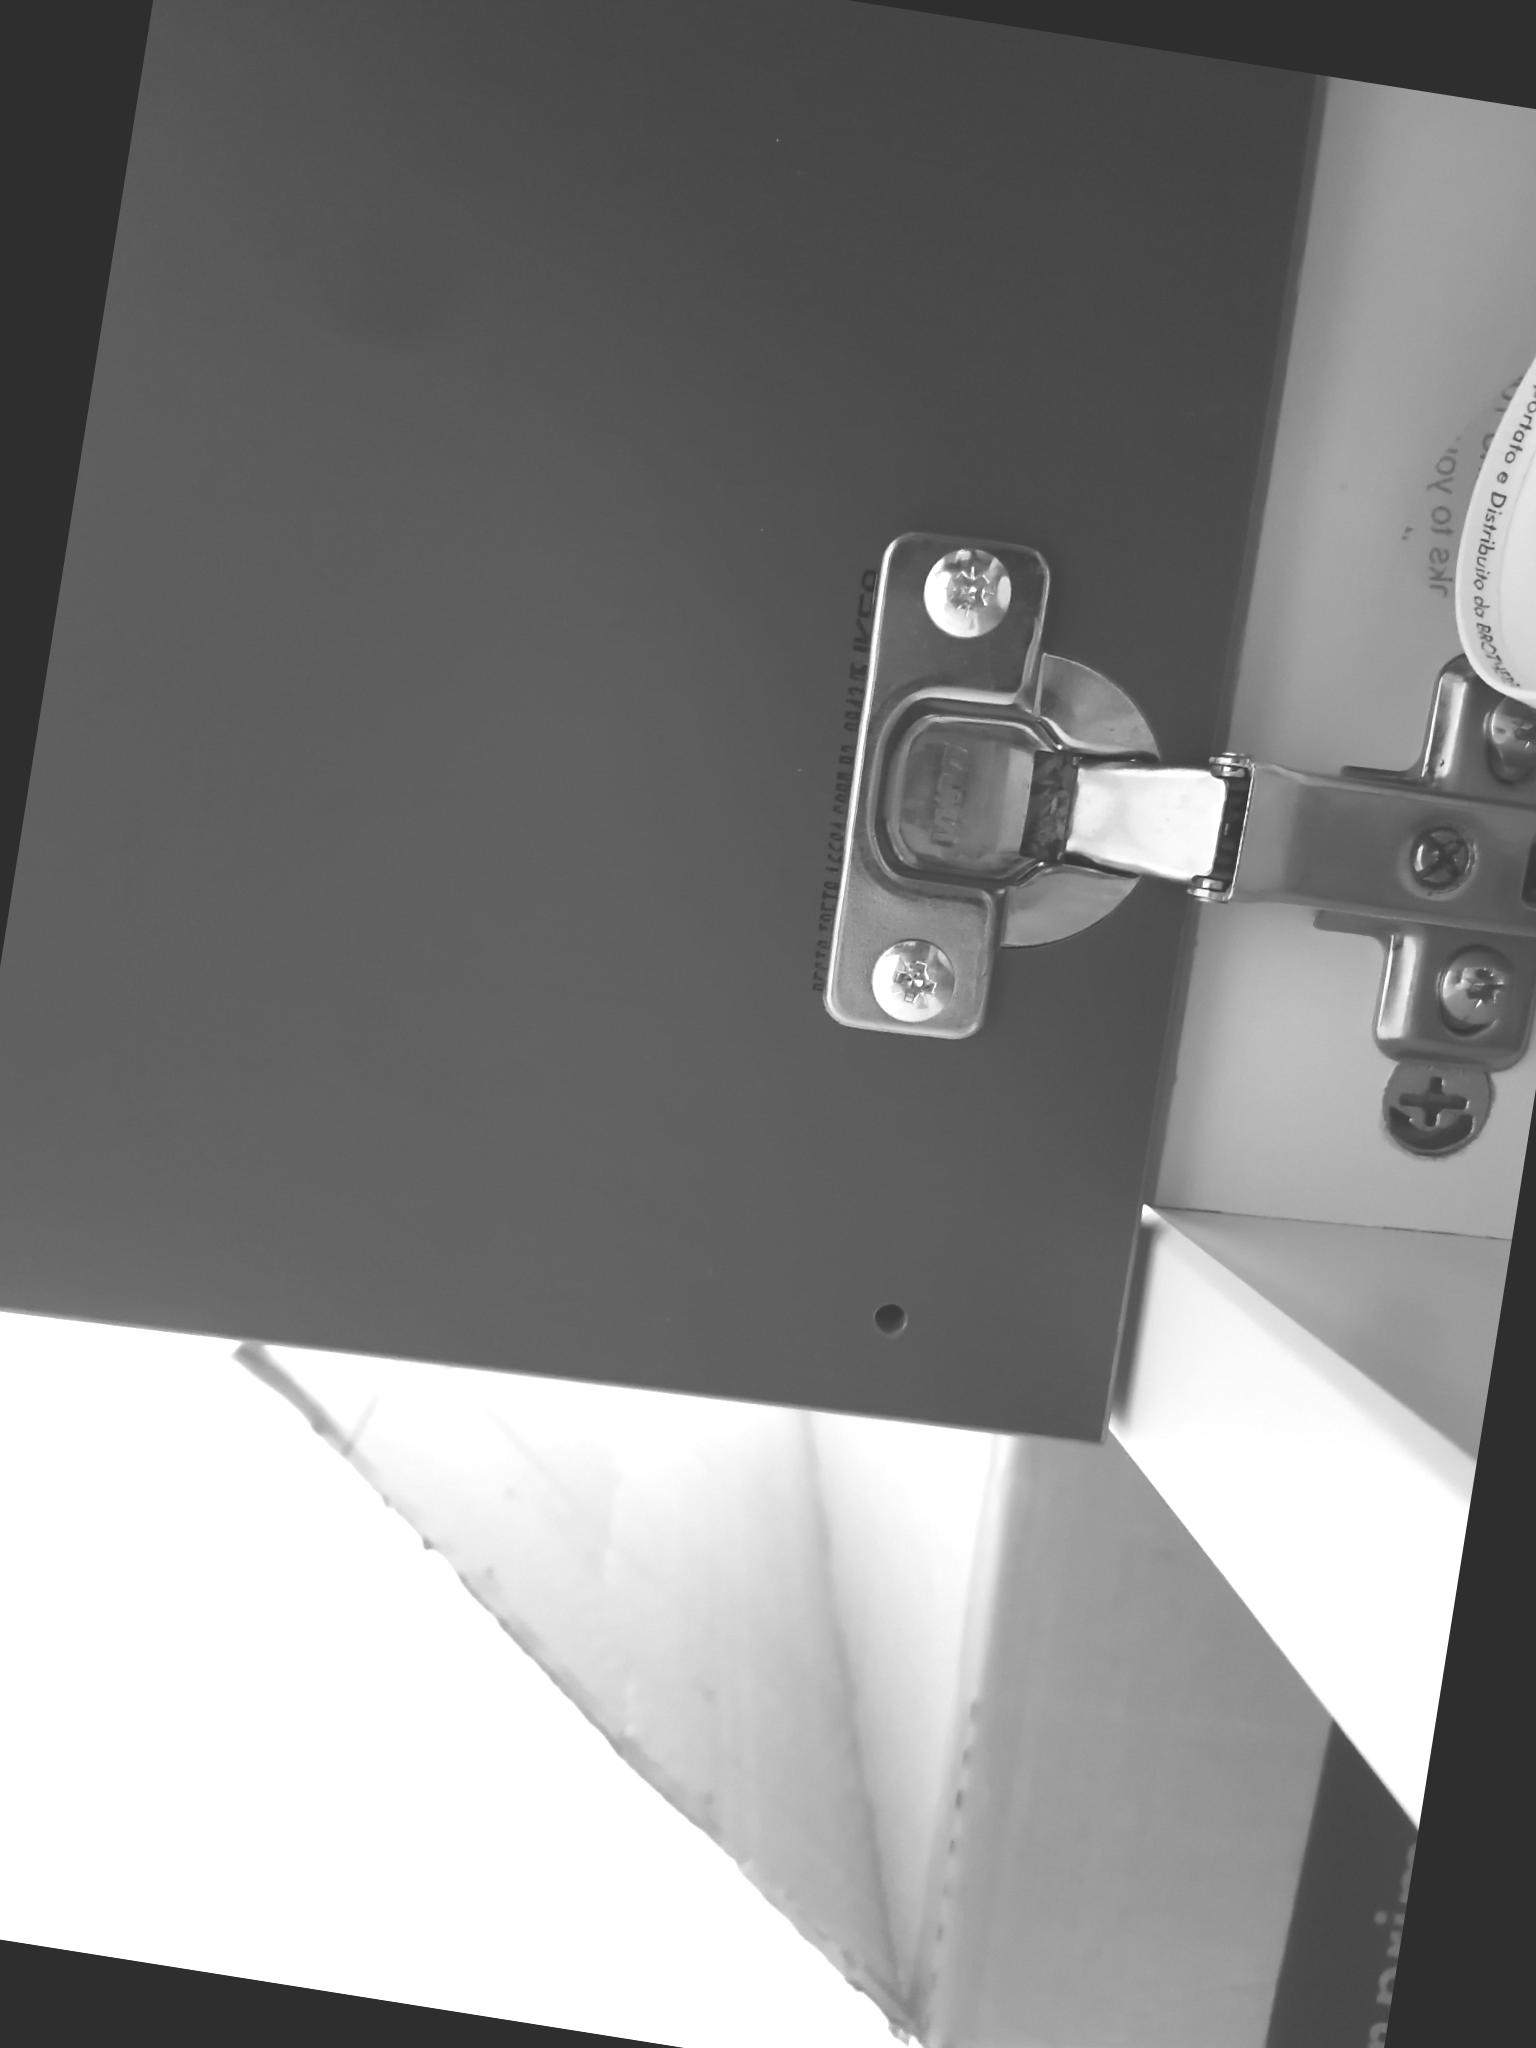screw: (913, 531, 1028, 643), (860, 926, 968, 1032)
